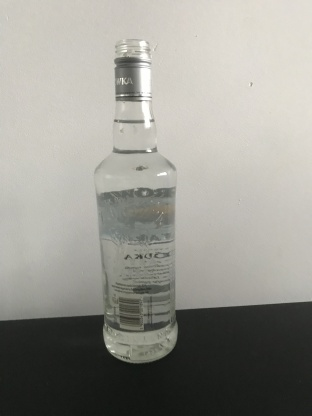nakretka: (112, 38, 154, 104)
